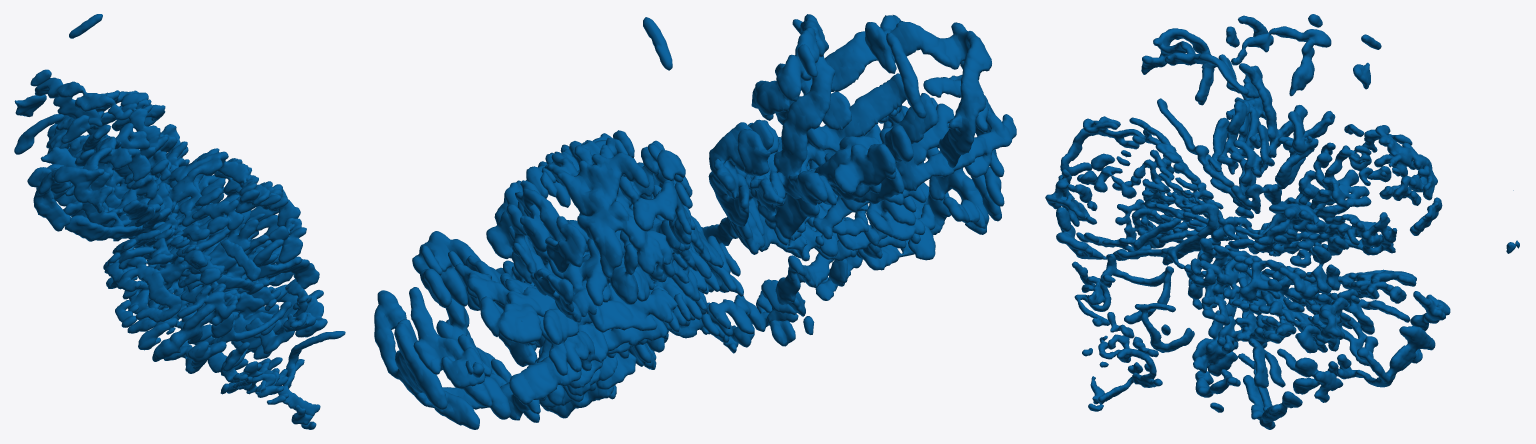
Rendered from 24HR_100cis_timelapse_z.glb.
3 views of the same model, side by side, from view 1: azimuth 30°, elevation 25°; view 2: azimuth 150°, elevation 25°; view 3: azimuth 270°, elevation 25° (orthographic). The views are drawn at different scales.
Parts seen in each view (by area): view 1: 24HR_100cis_timelpase_z; view 2: 24HR_100cis_timelpase_z; view 3: 24HR_100cis_timelpase_z.
Part boxes in pixels (left/top/right/bottom): 24HR_100cis_timelpase_z: left=14, top=14, right=345, bottom=429; 24HR_100cis_timelpase_z: left=374, top=14, right=1016, bottom=429; 24HR_100cis_timelpase_z: left=1045, top=14, right=1519, bottom=429.
Size of the model in its own units: 23.29 by 23.18 by 29.53.
